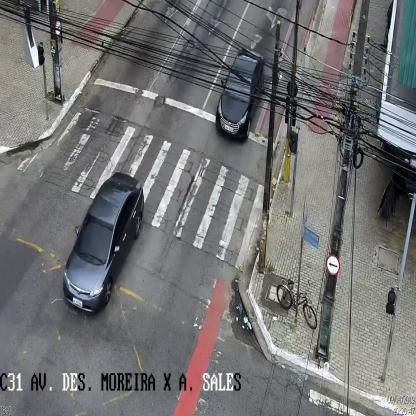bicycle: (275, 278, 318, 330)
car: (64, 172, 144, 314), (216, 49, 264, 145)
